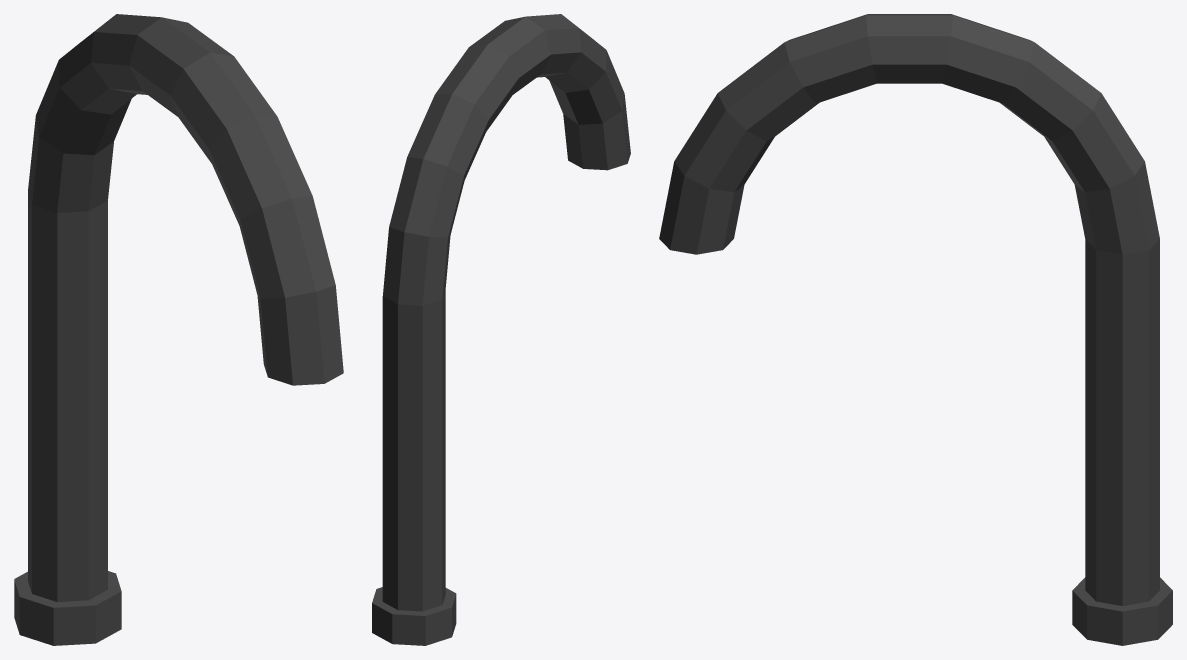
The model's file is Plumbing1_C1_01.fbx.
The picture shows the model from 3 angles, left to right: view 1: azimuth 30°, elevation 25°; view 2: azimuth 150°, elevation 25°; view 3: azimuth 270°, elevation 25°; orthographic projection. The views are drawn at different scales.
Visible parts, largest first — view 1: Plumbing1_C1_01; view 2: Plumbing1_C1_01; view 3: Plumbing1_C1_01.
Boxes of the visible parts, x1,y1,x2,y2 form: Plumbing1_C1_01: (14,14,343,645); Plumbing1_C1_01: (372,14,630,645); Plumbing1_C1_01: (659,14,1172,645).
Bounding box in the file's own units: 2.63 × 17.59 × 13.44.
